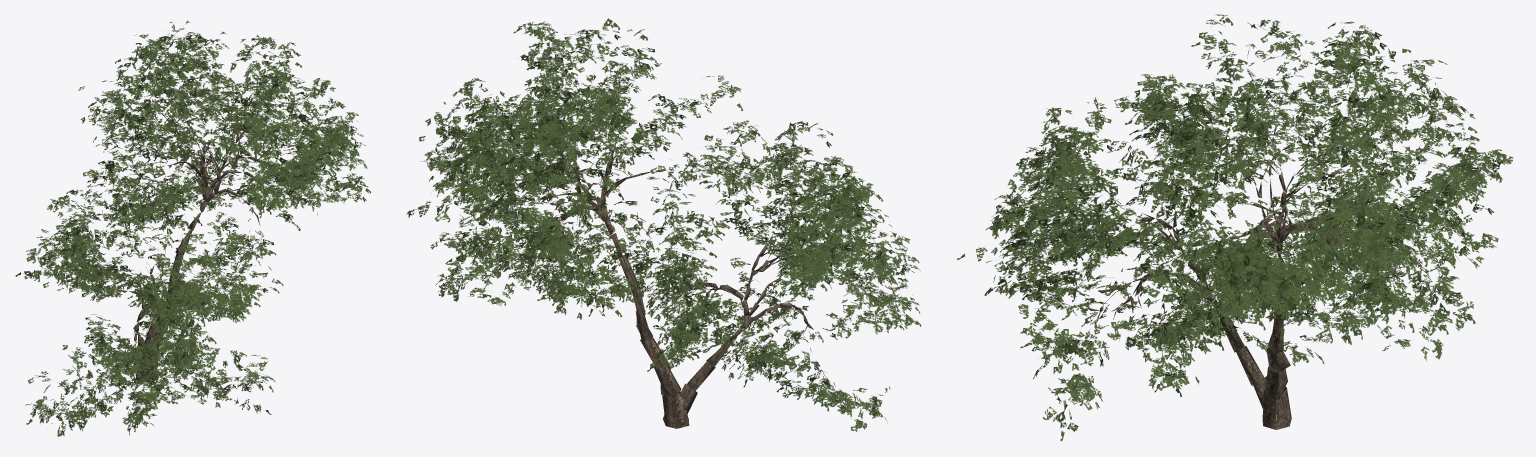
Rendered from liveoak_a.glb.
3 renders of one model, left to right at view 1: azimuth 30°, elevation 25°; view 2: azimuth 150°, elevation 25°; view 3: azimuth 270°, elevation 25°, orthographic. The views are drawn at different scales.
Parts seen in each view (by area): view 1: foliage_w; view 2: foliage_w; view 3: foliage_w.
Boxes of the visible parts, x1=… form: foliage_w: x1=15, y1=21, x2=371, y2=436; foliage_w: x1=406, y1=18, x2=921, y2=431; foliage_w: x1=957, y1=14, x2=1513, y2=441.
Bounding box in the file's own units: 15.87 × 13.46 × 15.44.
2 materials, 2 textured.
